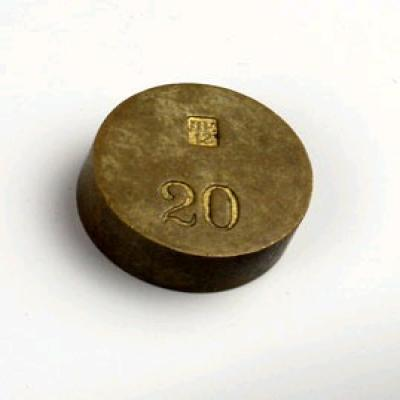technique: (76, 83, 312, 295)
